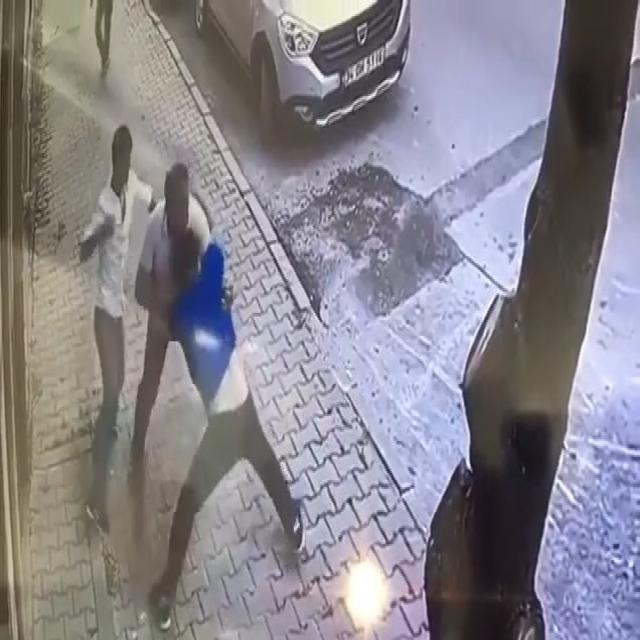fight: (132, 162, 256, 631)
